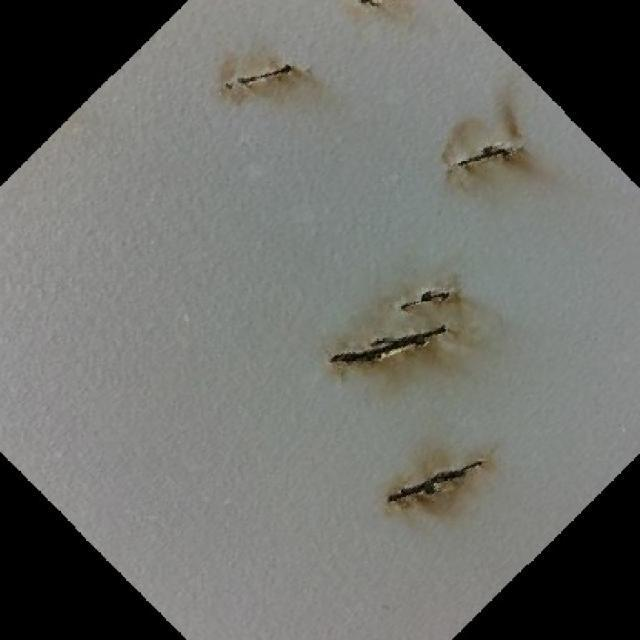crack: (329, 326, 449, 359), (392, 460, 486, 496), (229, 63, 294, 85), (456, 145, 516, 168), (403, 288, 452, 310)
